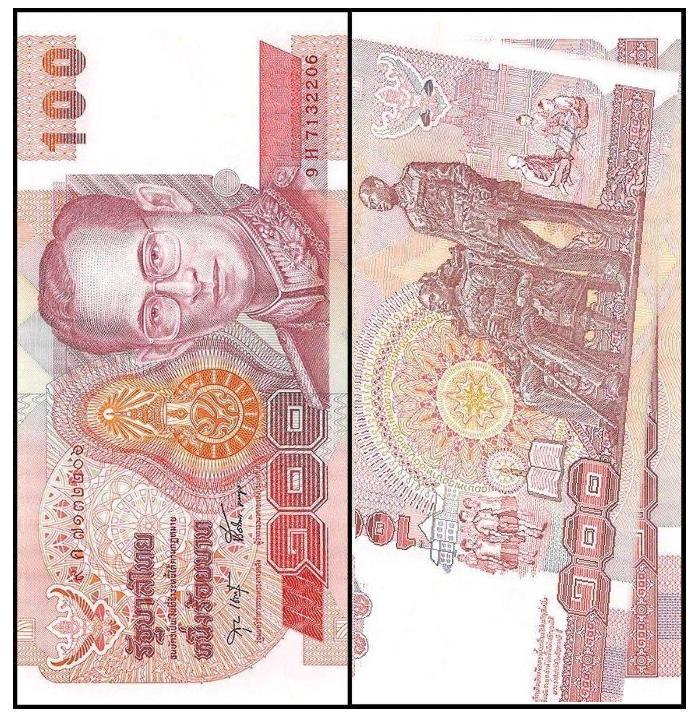100BahtTai: (356, 16, 680, 703)
